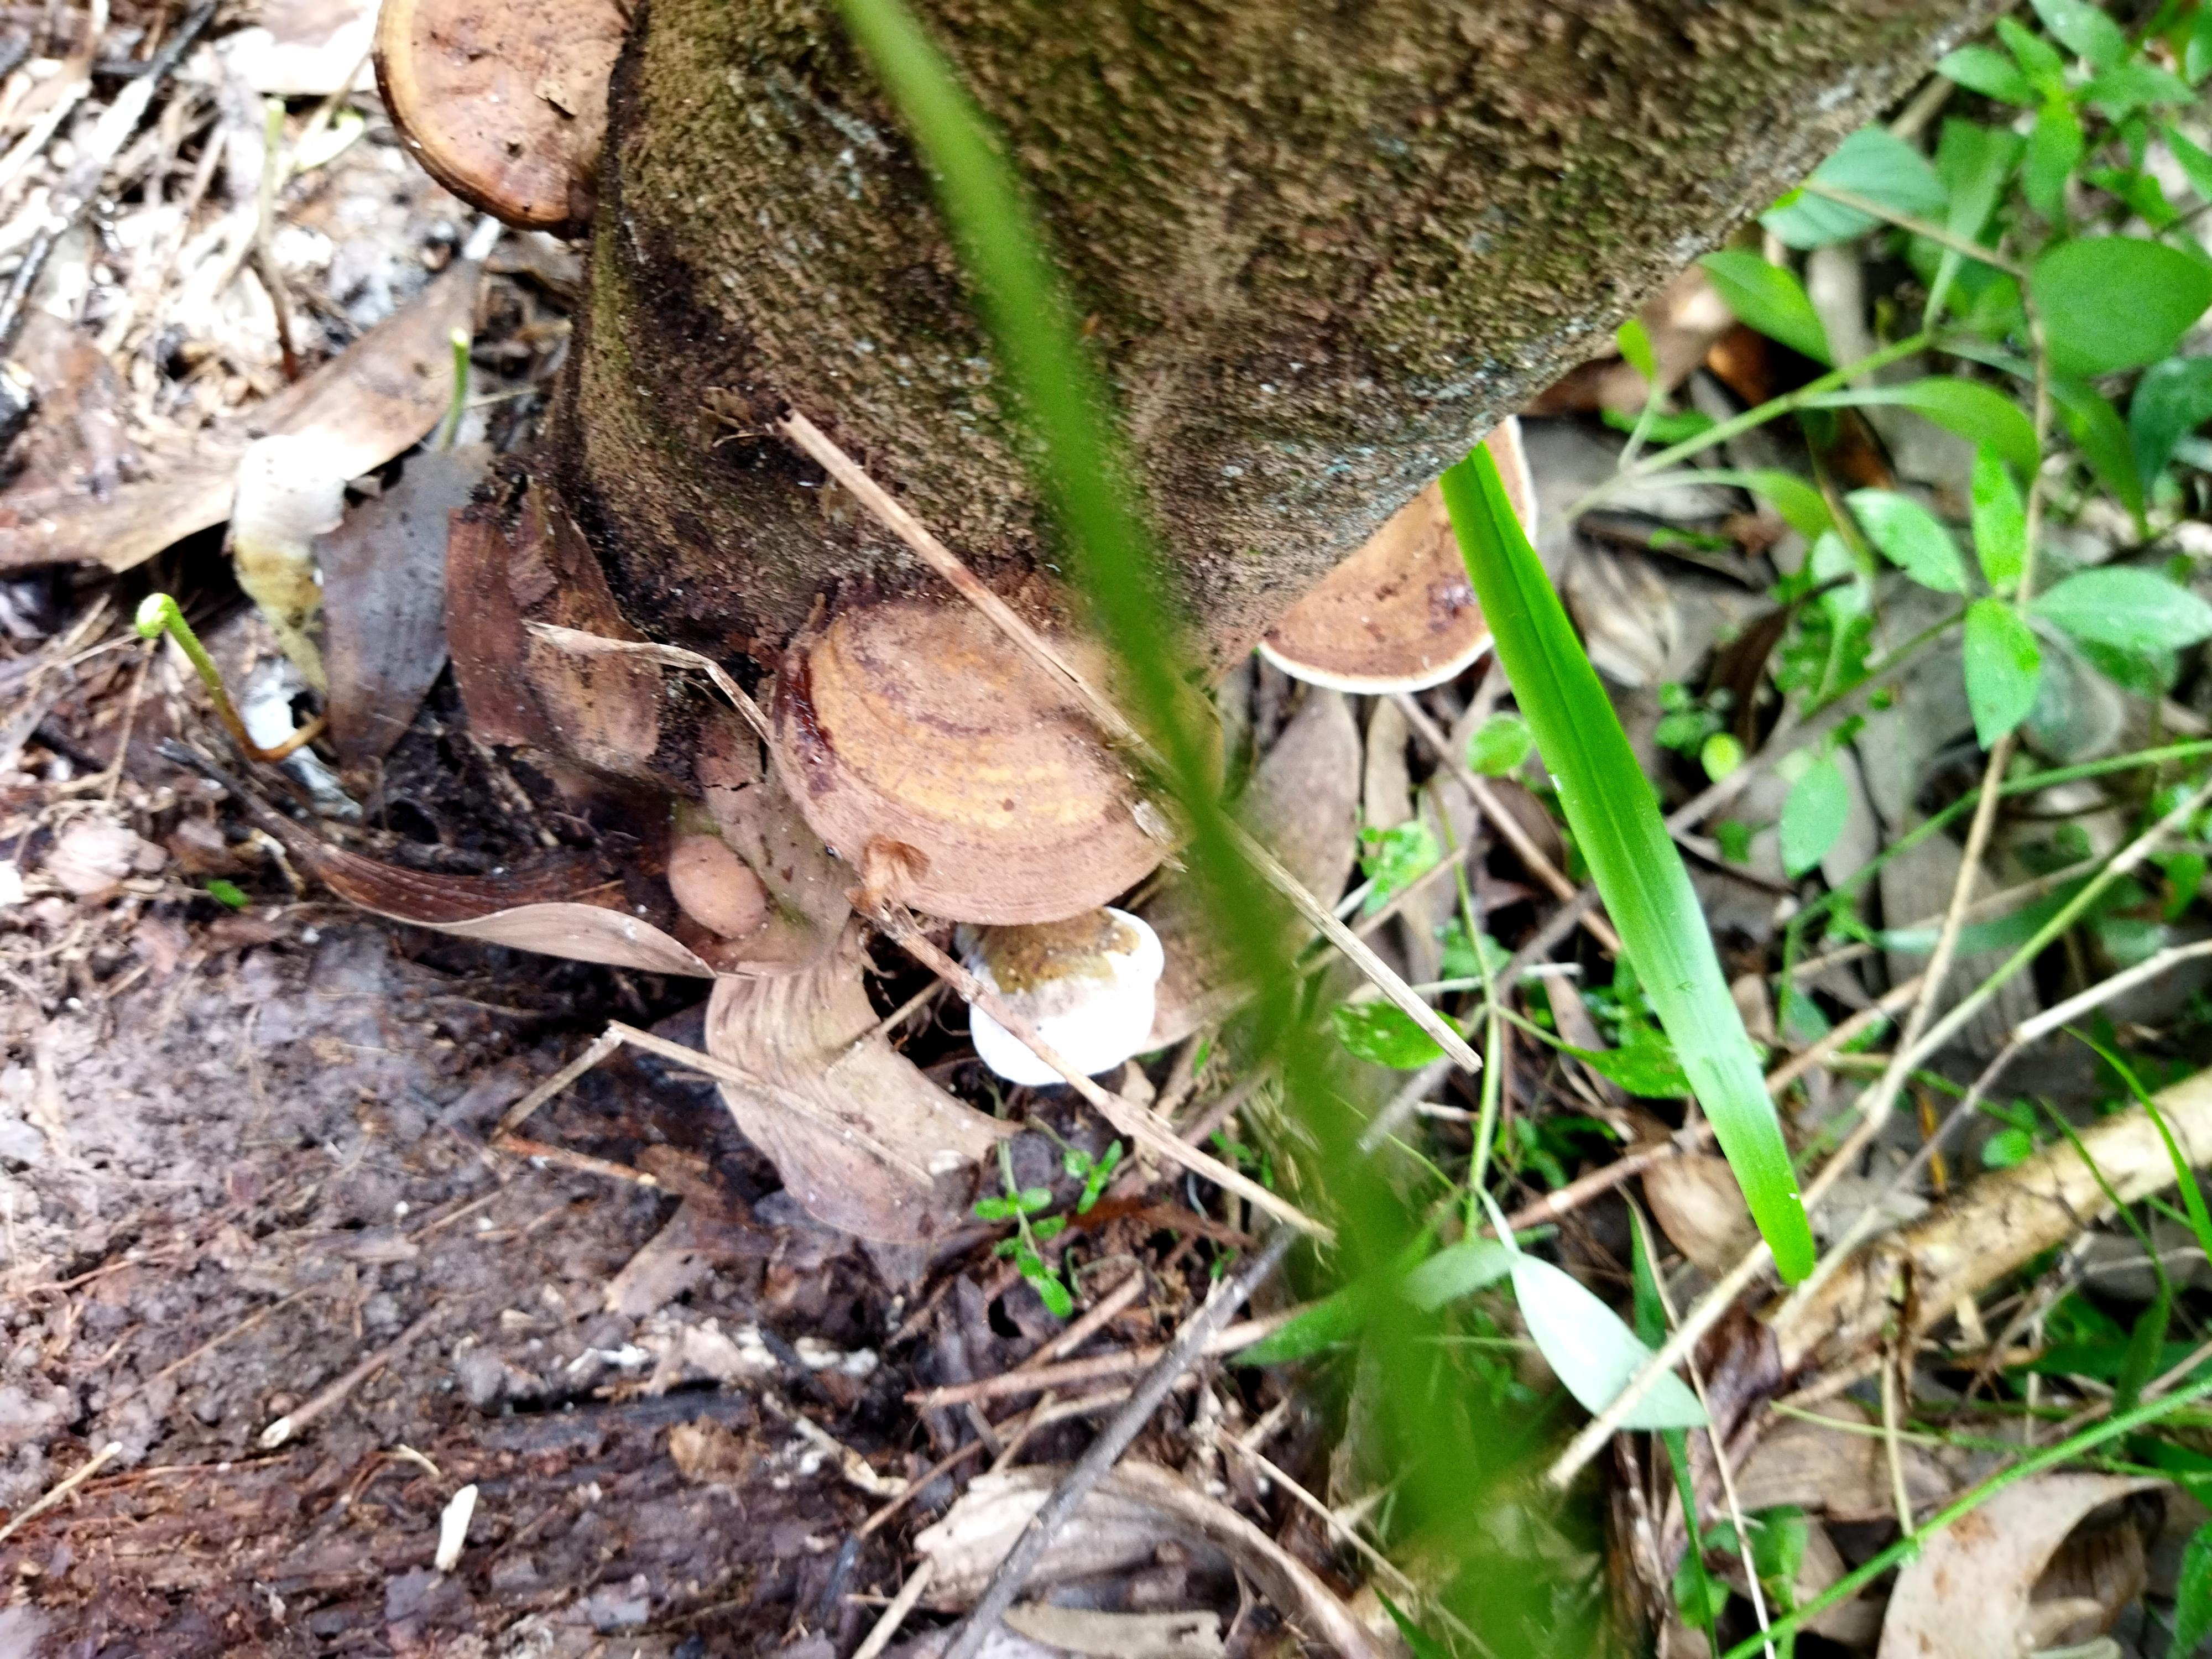Ganoderma - Fruit Body: (732, 598, 1228, 918), (1256, 416, 1561, 701), (350, 0, 627, 258), (930, 925, 1184, 1122)
